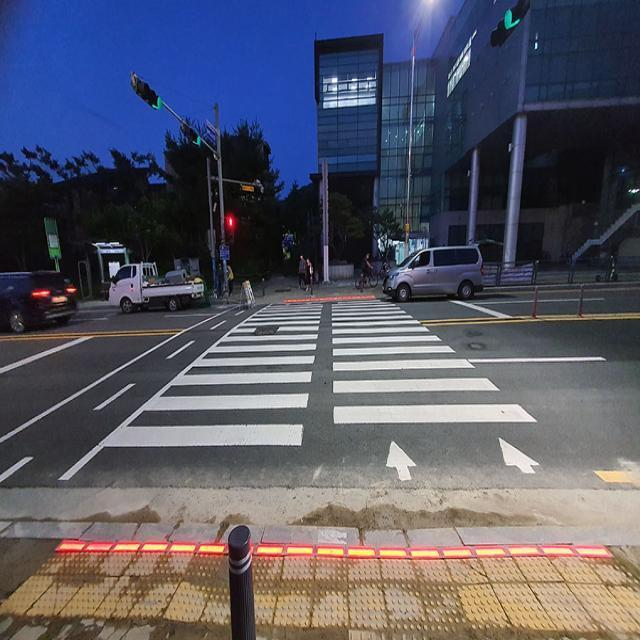red_light: (228, 216, 233, 226)
